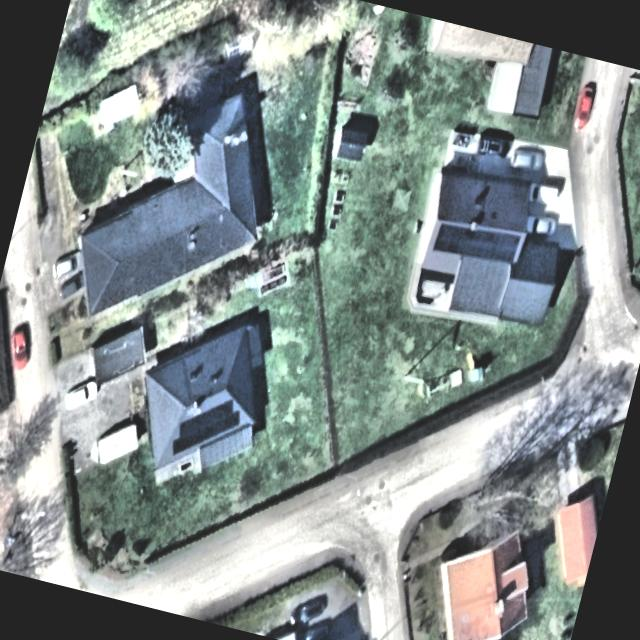roof_pv: (430, 214, 522, 271), (200, 391, 248, 450), (168, 400, 208, 460)
